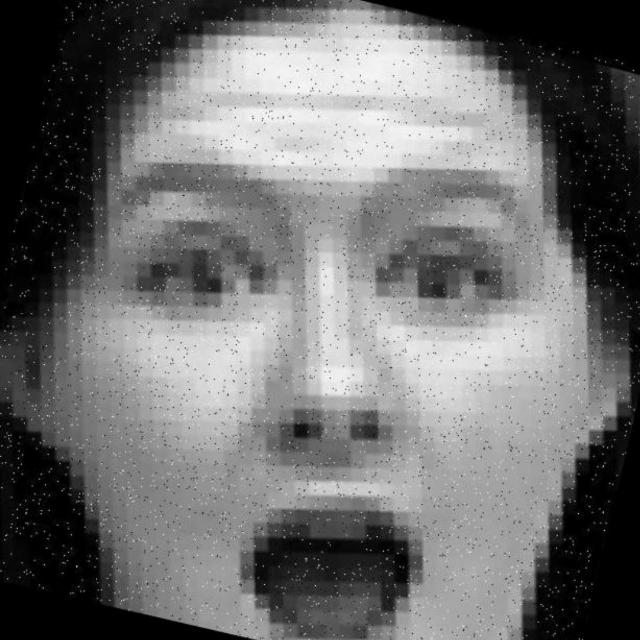Surprised: (32, 96, 616, 640)
